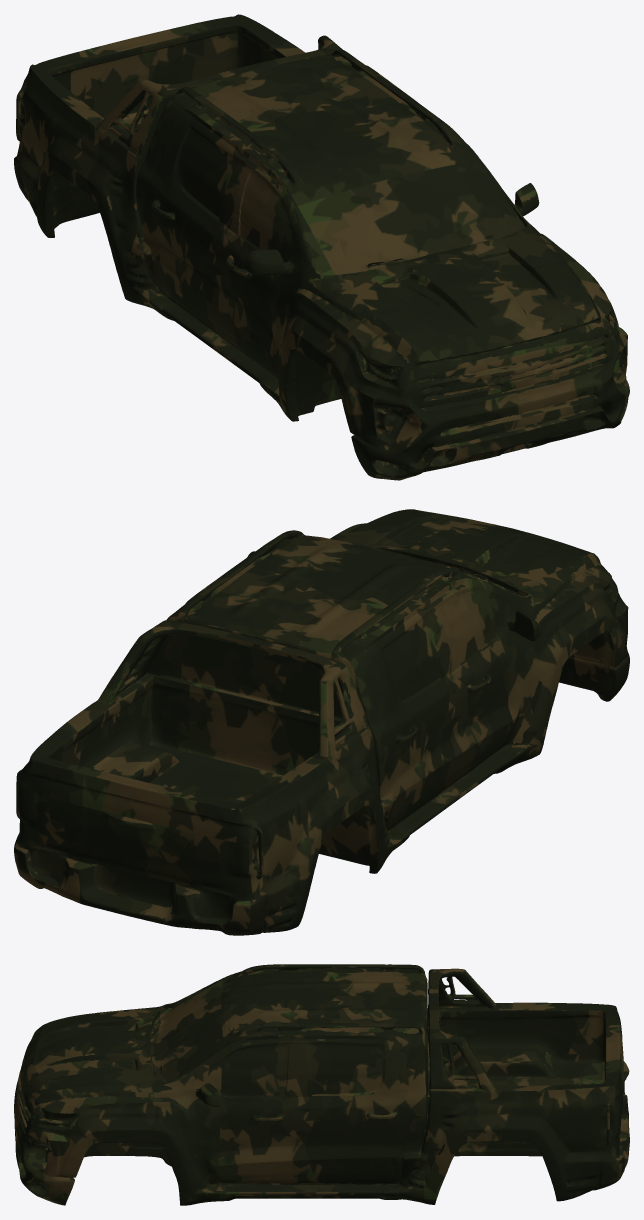
Rendered from car9.glb.
3 renders of one model, top to bottom at view 1: azimuth 30°, elevation 25°; view 2: azimuth 150°, elevation 25°; view 3: azimuth 270°, elevation 25°, orthographic. The views are drawn at different scales.
Parts seen in each view (by area): view 1: model; view 2: model; view 3: model.
Boxes of the visible parts, bbox=[...] form: model: bbox=[14, 14, 629, 480]; model: bbox=[14, 509, 629, 935]; model: bbox=[14, 964, 629, 1205].
Bounding box in the file's own units: 0.8023 × 0.5694 × 1.9.
Materials: 1 (1 with a texture image).
